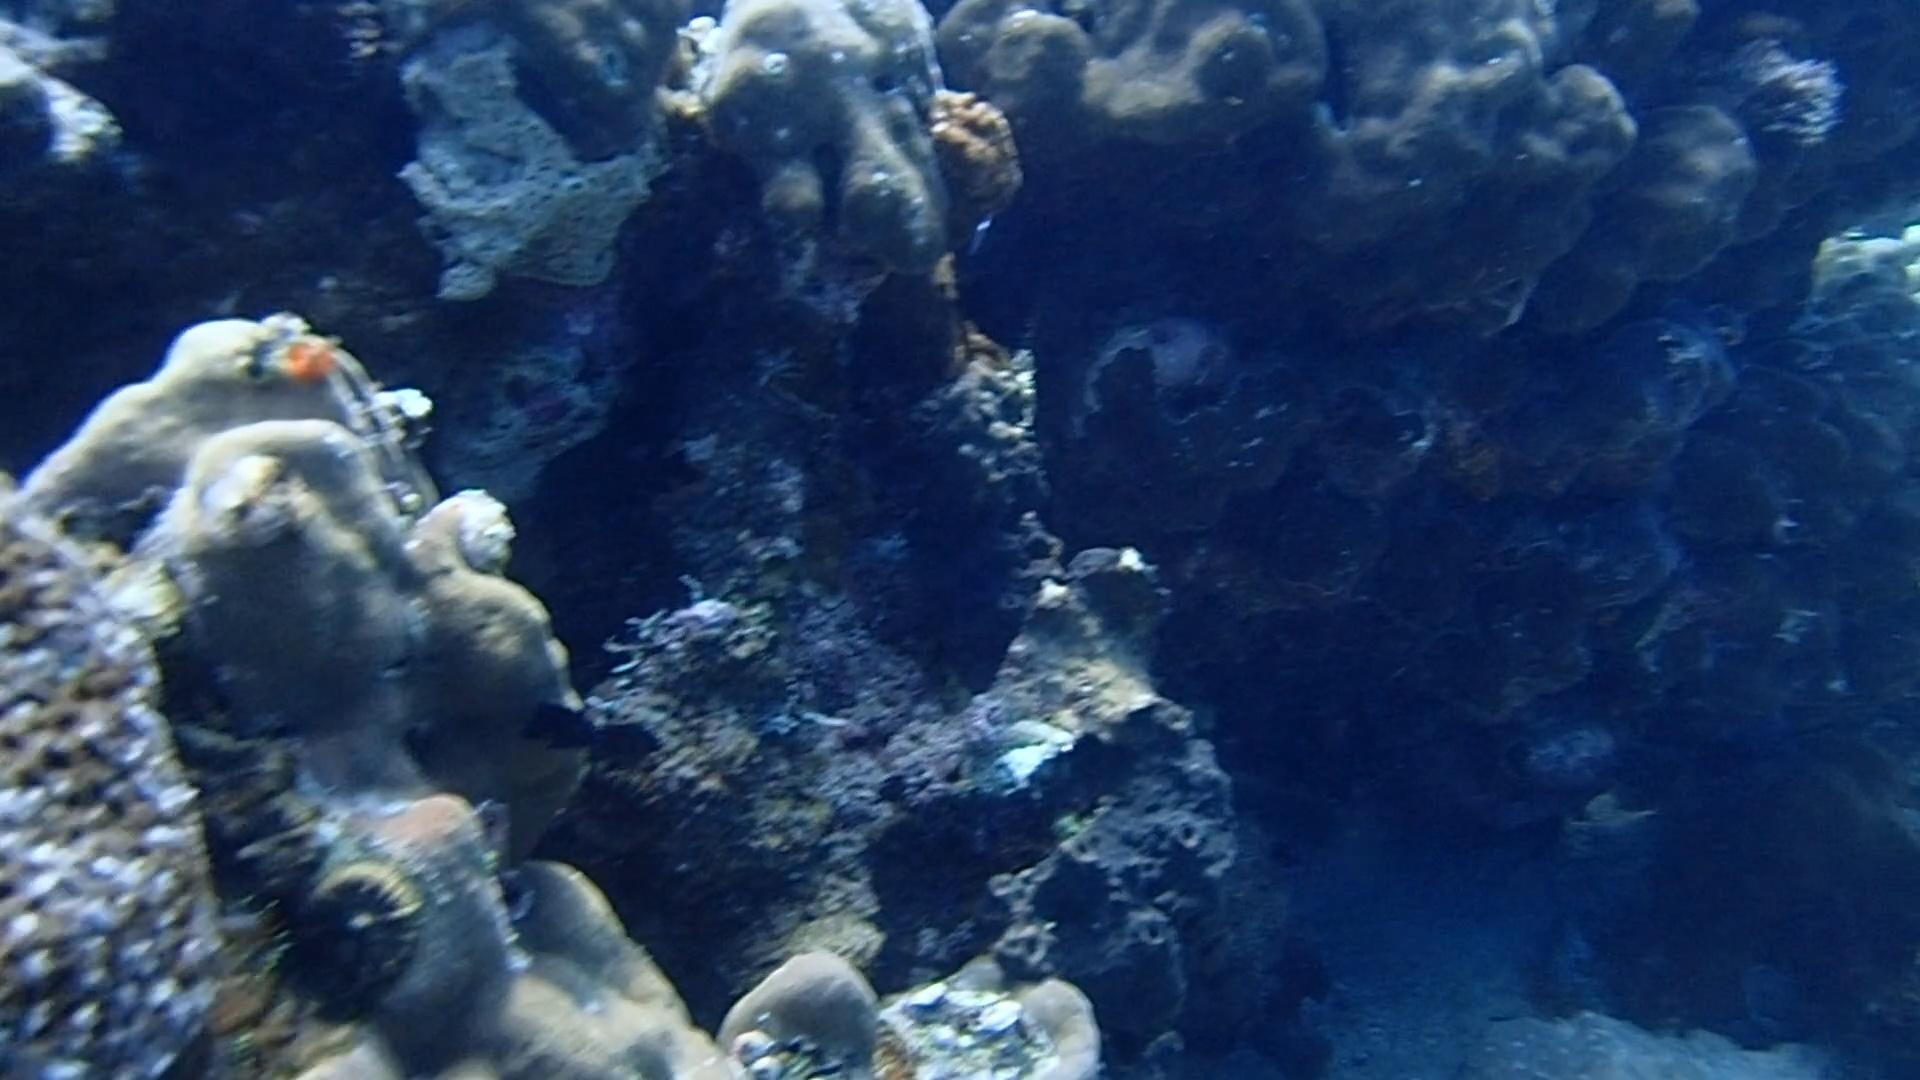Dark Fish: (506, 691, 616, 756), (582, 715, 663, 771)
